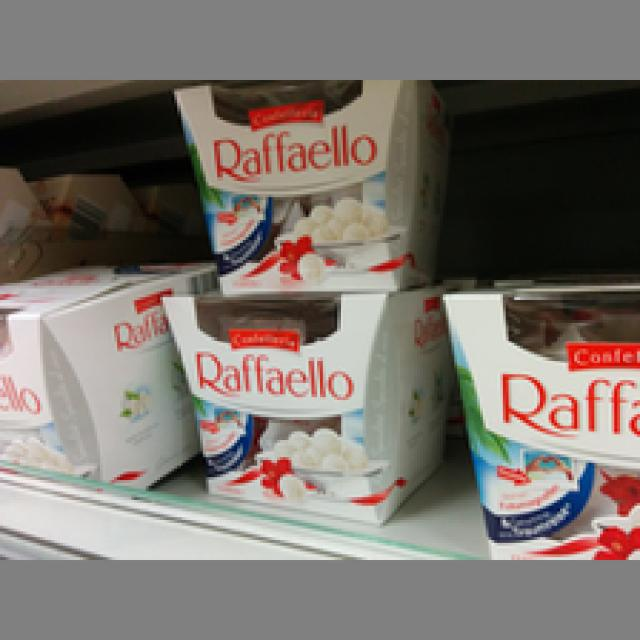groceries: (157, 289, 432, 520), (434, 283, 637, 557), (171, 80, 426, 291), (0, 260, 214, 488)
